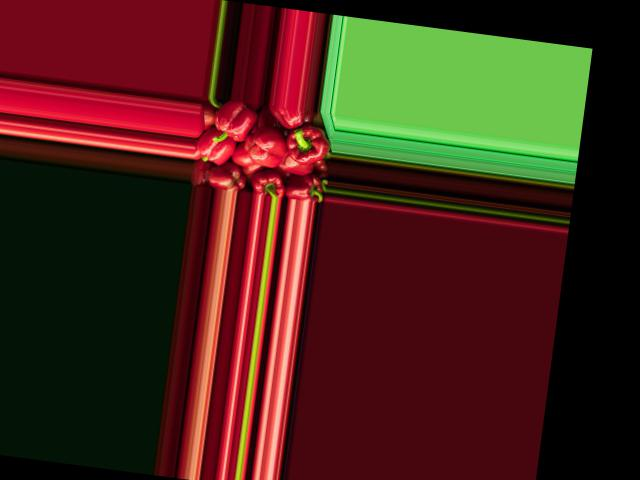bell_pepper: (286, 172, 326, 203)
